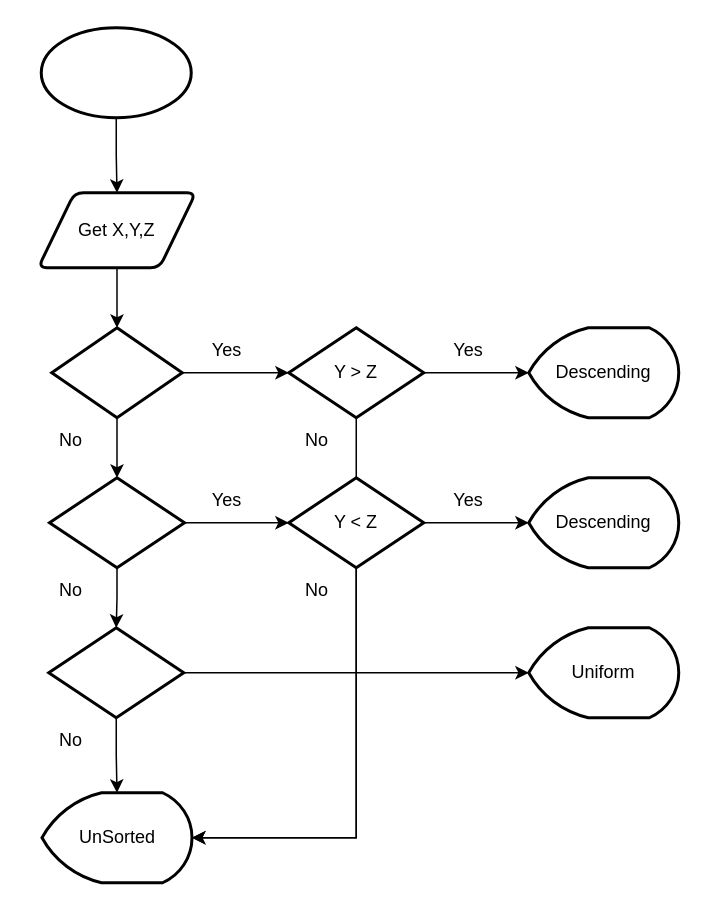
This 705x909 diagram has some shape labels left out. Each missing label, with the box of its shape:
Start: (39, 26, 192, 118)
X < Y: (47, 476, 185, 568)
X = Y = Z: (46, 626, 184, 718)
X > Y: (50, 326, 183, 418)
